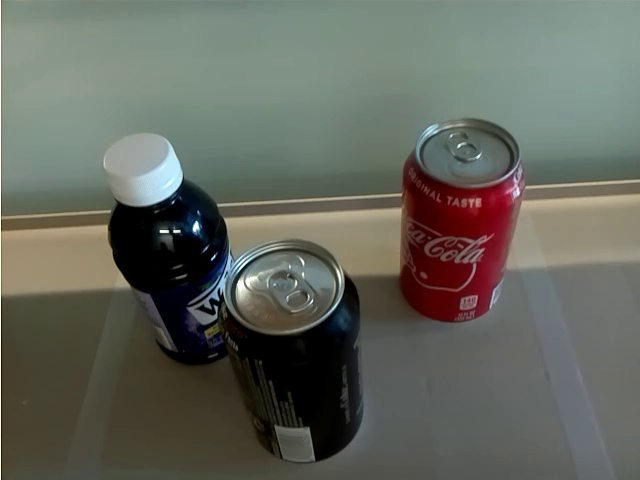cocacola: (221, 239, 363, 465), (395, 120, 526, 325)
juice: (100, 126, 239, 368)
